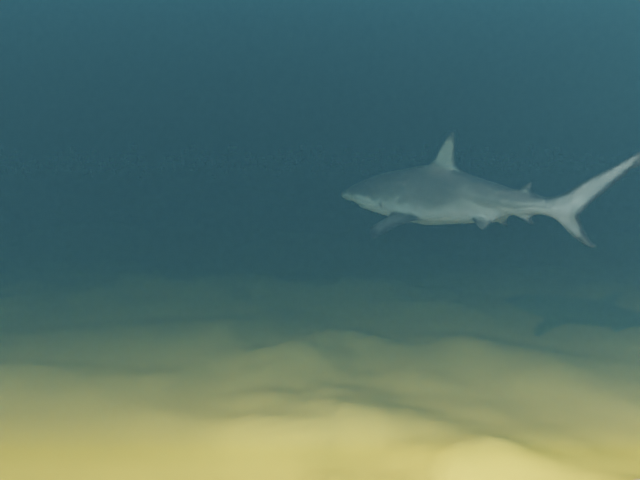Carribean Shark.001: (341, 132, 640, 247)
